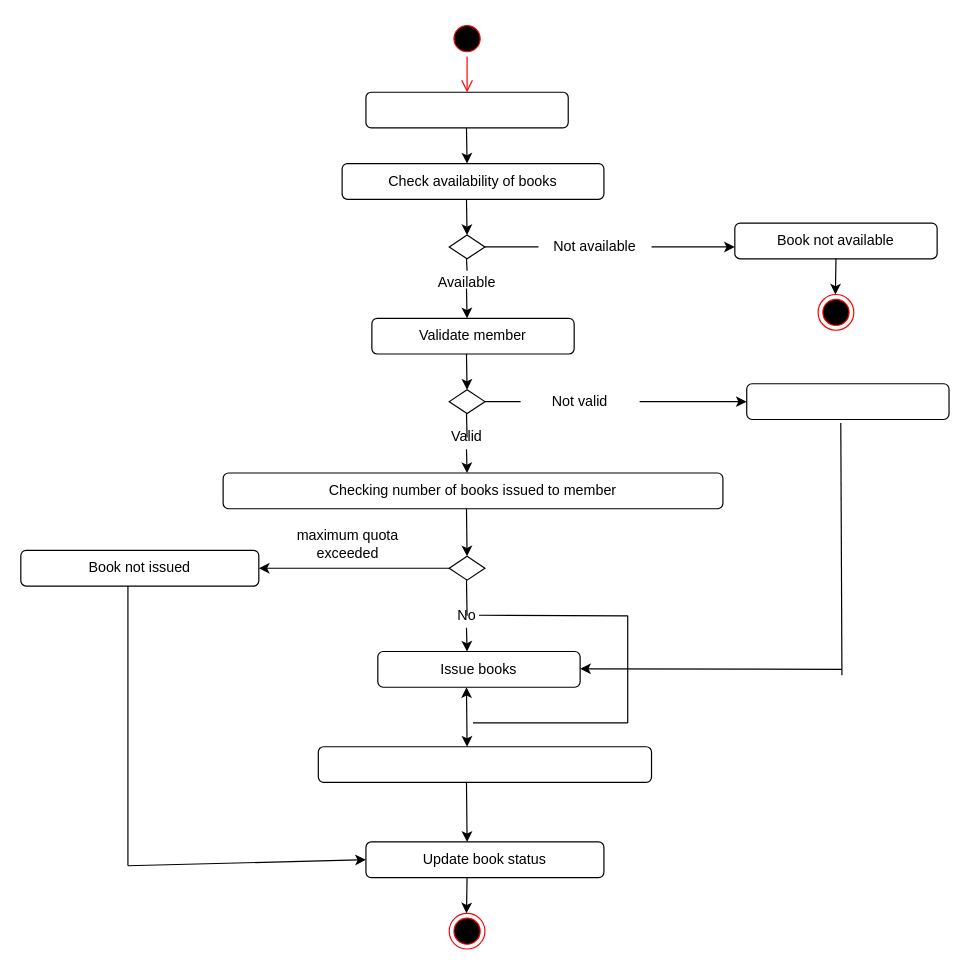
Image size: 970x970. Some labels were removed from this diagram. Here are the shapes that lost their labels. From the top down, the box of each, then its label:
(365, 91, 568, 128): Inquiry about books
(746, 383, 949, 419): Register memeber
(317, 746, 652, 782): Add member,book,and issue detail
